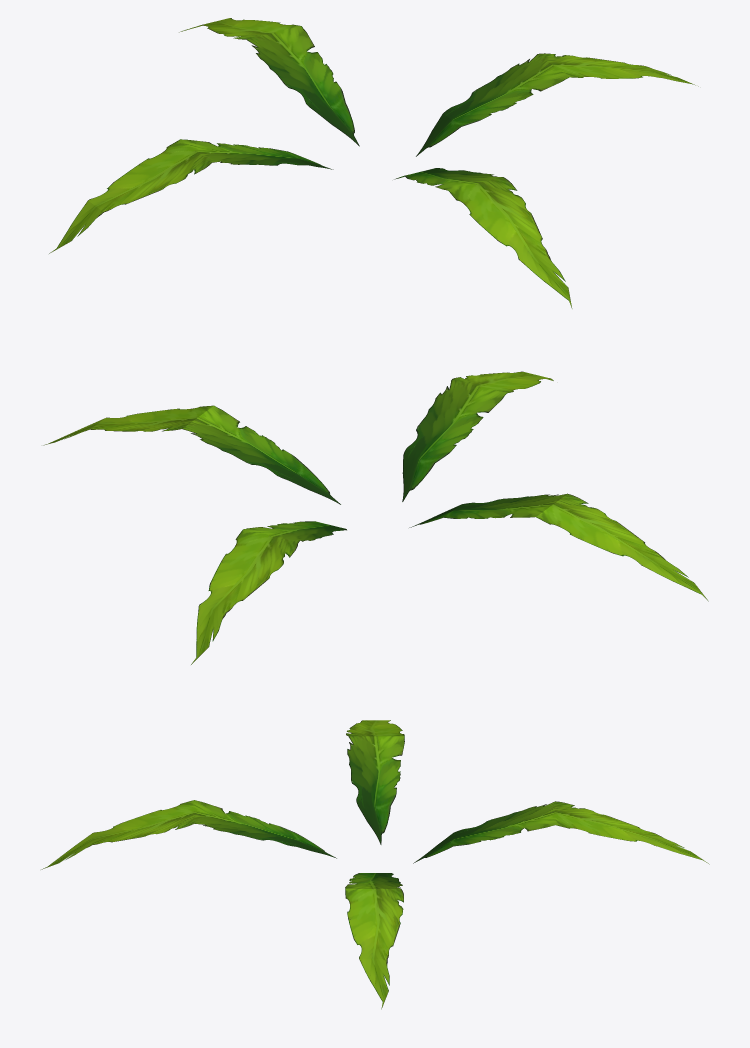
Rendered from Hemp_21.fbx.
3 views of the same model, one above another, from view 1: azimuth 30°, elevation 25°; view 2: azimuth 150°, elevation 25°; view 3: azimuth 270°, elevation 25° (orthographic). The views are drawn at different scales.
Visible parts, largest first — view 1: Hemp_21; view 2: Hemp_21; view 3: Hemp_21.
Part boxes in pixels (box(x1,y1,x2,y2)): Hemp_21: box(49, 18, 698, 308); Hemp_21: box(43, 371, 708, 664); Hemp_21: box(41, 720, 709, 1009).
Size of the model in its own units: 360 by 37.66 by 360.
